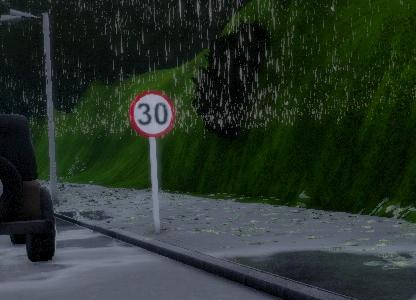Speed_30: (126, 85, 175, 139)
